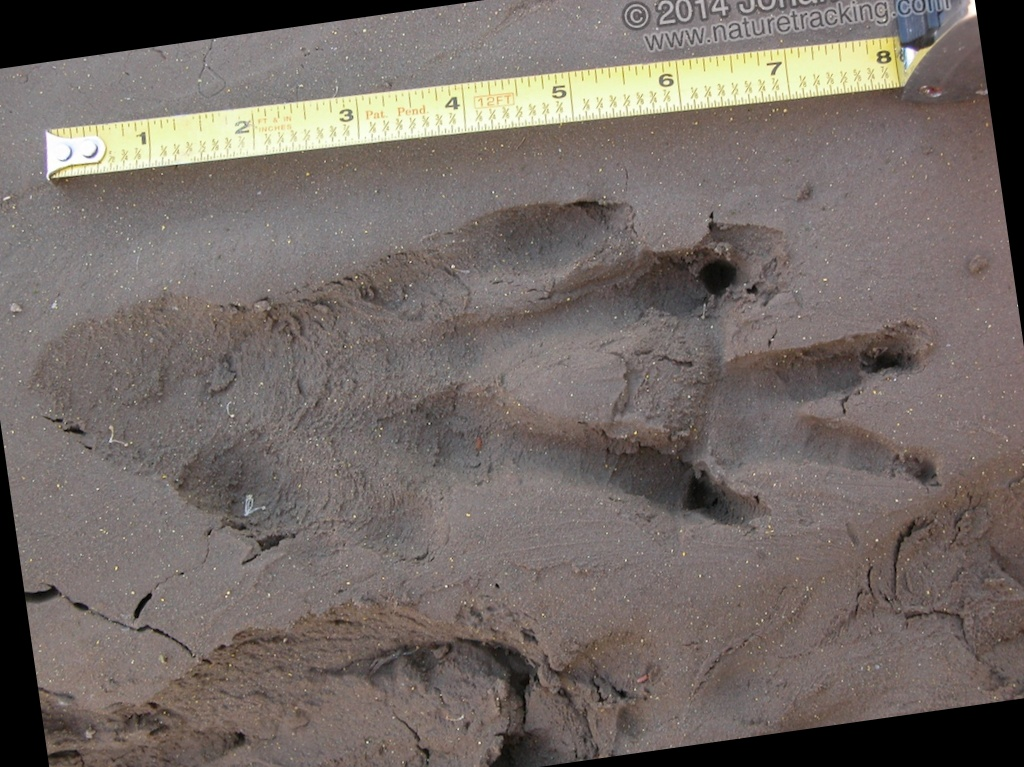beaver: (10, 138, 1007, 649)
